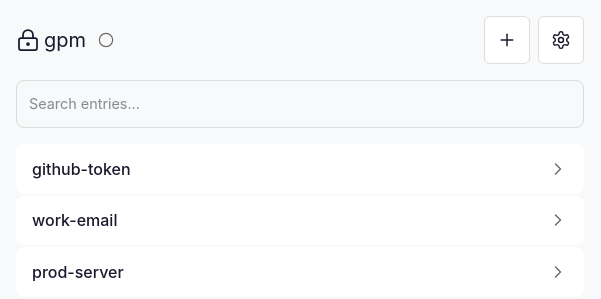
EntryListPage › search › debounces and renders backend search results
Type "git" into the search field with placeholder "Search entries...". click: (300, 104)
box: [16,80,584,128]
Wait 150 ms
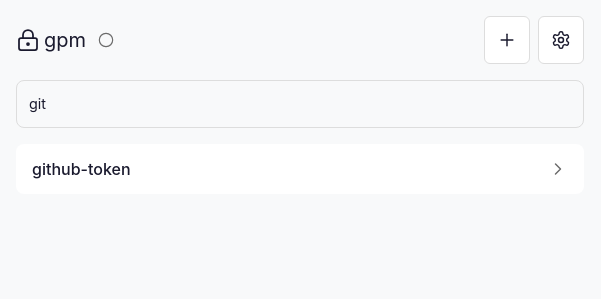
Expected: the text "github-token" is shown, [32,159,130,179]
Now the text "work-email" is gone
